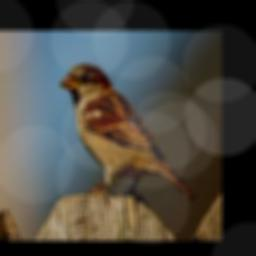Sparrow: (59, 64, 198, 199)
